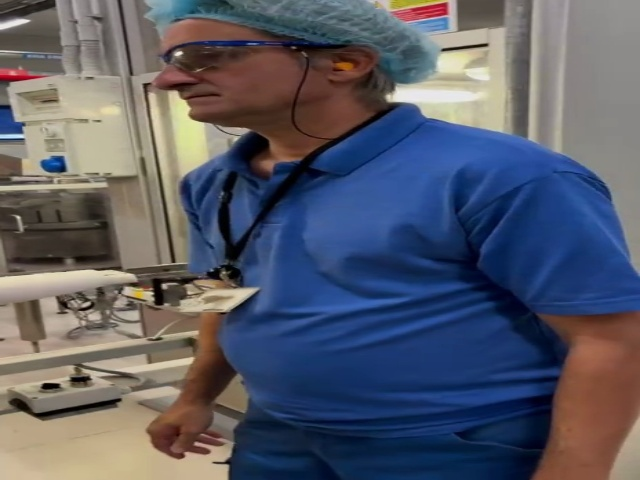Earplug: (329, 45, 381, 83)
Hairnet: (143, 1, 438, 85)
No_Helmet: (153, 1, 427, 44)
No_Vest: (203, 128, 632, 417)
Person: (146, 1, 640, 479)
Safety_Goggles: (150, 41, 320, 73)
